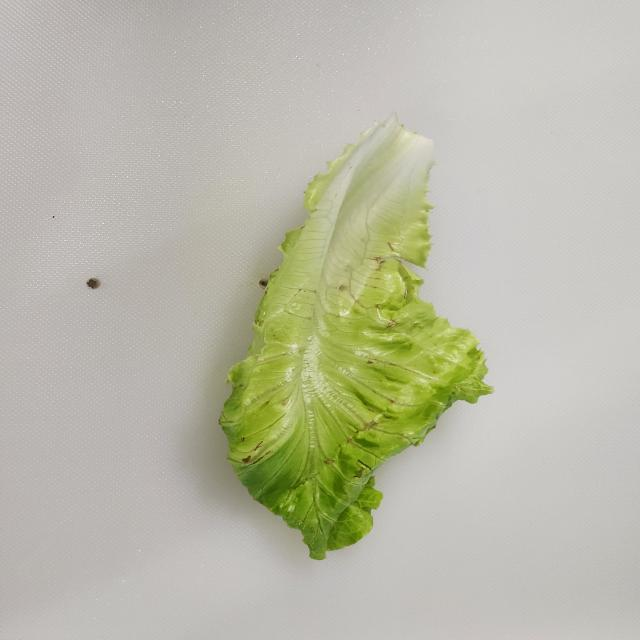lettuce: (217, 112, 494, 560)
